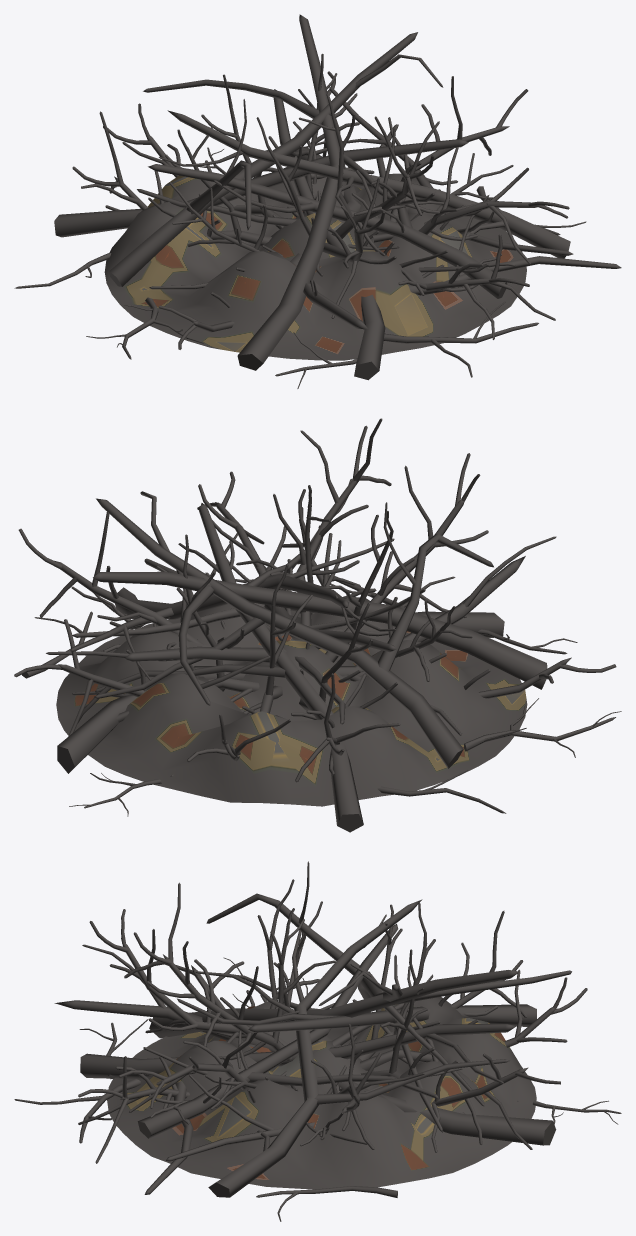
File: P_bonfire_01_LD.fbx
The picture shows the model from 3 angles, top to bottom: view 1: azimuth 30°, elevation 25°; view 2: azimuth 150°, elevation 25°; view 3: azimuth 270°, elevation 25°; orthographic projection. The views are drawn at different scales.
Parts seen in each view (by area): view 1: P_bonfire_01; view 2: P_bonfire_01; view 3: P_bonfire_01.
Boxes of the visible parts, bbox=[...] form: P_bonfire_01: bbox=[14, 14, 621, 388]; P_bonfire_01: bbox=[14, 418, 621, 832]; P_bonfire_01: bbox=[14, 861, 621, 1221].
Bounding box in the file's own units: 539 × 225 × 559.
